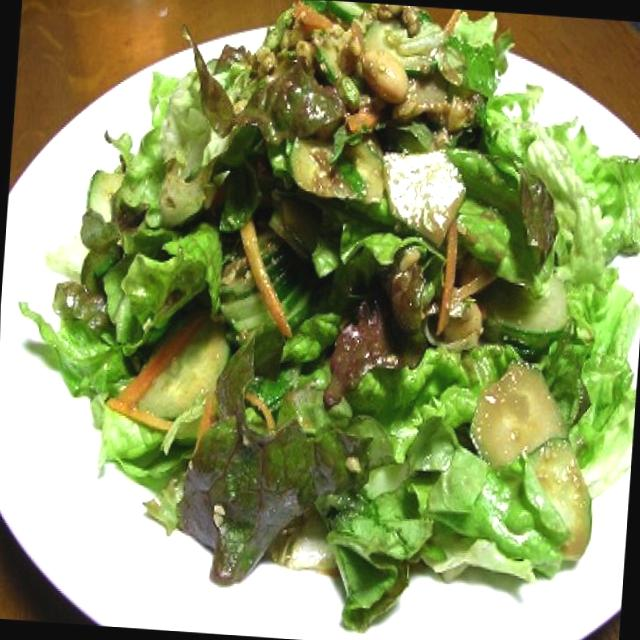Green Salad: (31, 0, 640, 567)
